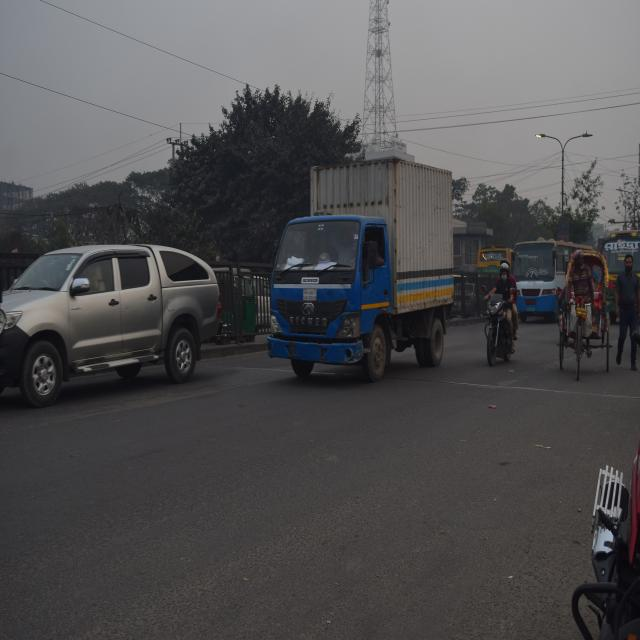bus: (513, 235, 586, 315), (604, 225, 640, 318)
microbus: (0, 238, 226, 398)
motorbike: (476, 285, 523, 375)
pickup-van: (275, 175, 466, 367)
